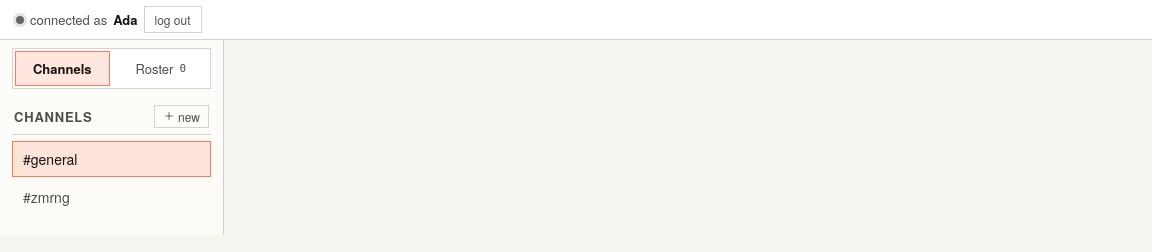
Test: TeamView navigation › on a phone, opening a channel replaces the rail with the thread pane
This screenshot has width=1152, height=252.
Check: the field with placeholder "Message " is not shown
Click the button "#general" at (112, 159), box [12,141,211,177]
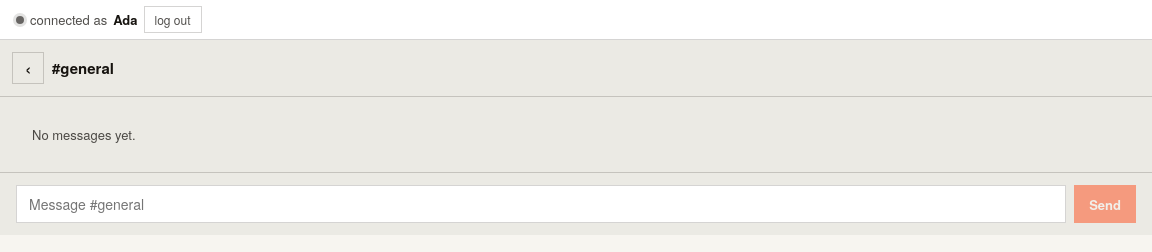
Check: the field with placeholder "Message #general" is shown, box [16,185,1066,223]
Check: the tab "Channels" is gone
Click the button named "Back to channels" at (28, 68), box [12,52,44,84]
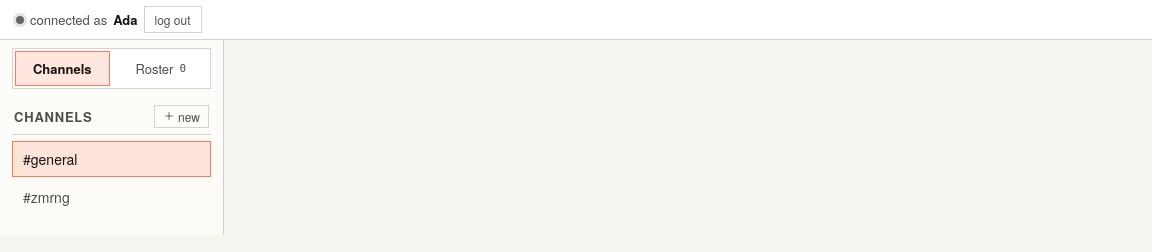
Check: the field with placeholder "Message #general" is not shown
Check: the tab "Channels" is shown, box [15,51,110,86]
